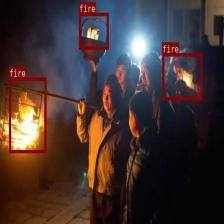fire: (9, 77, 46, 152), (162, 53, 202, 99), (79, 12, 108, 49)
